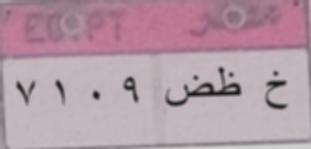0: (88, 84, 110, 108)
1: (50, 72, 72, 109)
7: (12, 70, 42, 110)
9: (119, 70, 146, 105)
Thaa: (214, 60, 244, 98)
daad: (166, 67, 213, 111)
khaa: (259, 66, 293, 115)
